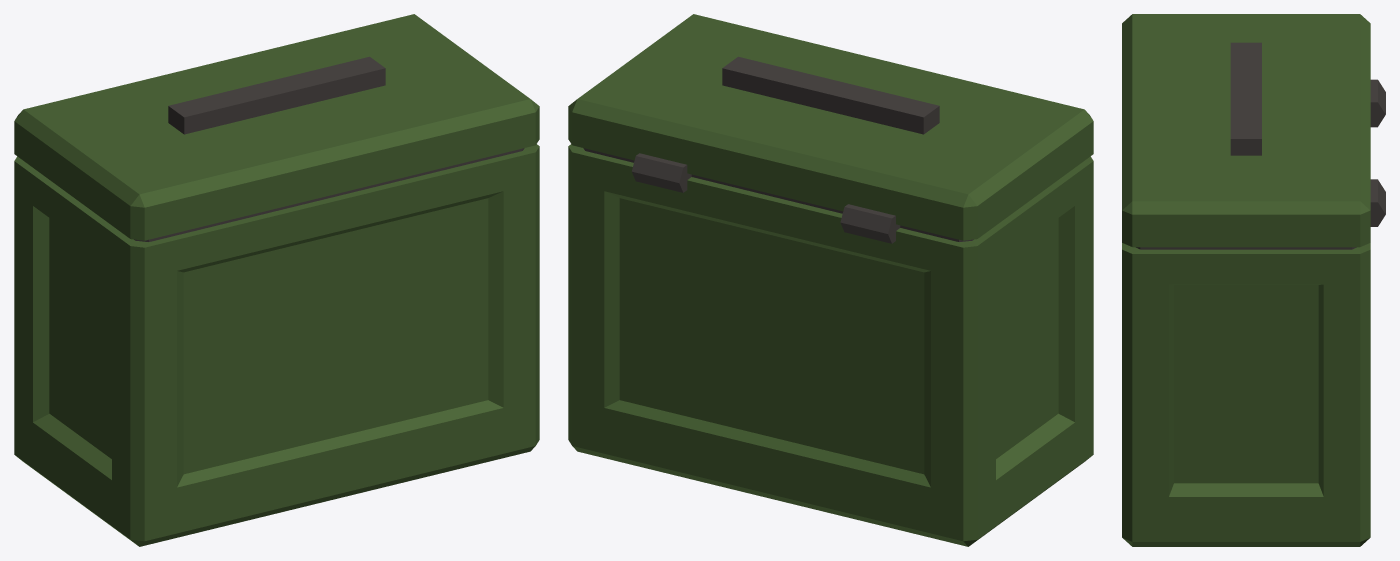
File: AmoBox_03.fbx
The picture shows the model from 3 angles, left to right: view 1: azimuth 30°, elevation 25°; view 2: azimuth 150°, elevation 25°; view 3: azimuth 270°, elevation 25°; orthographic projection.
Parts seen in each view (by area): view 1: AmoBox_03; view 2: AmoBox_03; view 3: AmoBox_03.
Part boxes in pixels (x1=…): AmoBox_03: x1=14, y1=14, x2=539, y2=546; AmoBox_03: x1=568, y1=14, x2=1093, y2=546; AmoBox_03: x1=1122, y1=14, x2=1385, y2=546.
Bounding box in the file's own units: 0.3506 × 0.3027 × 0.1995.
